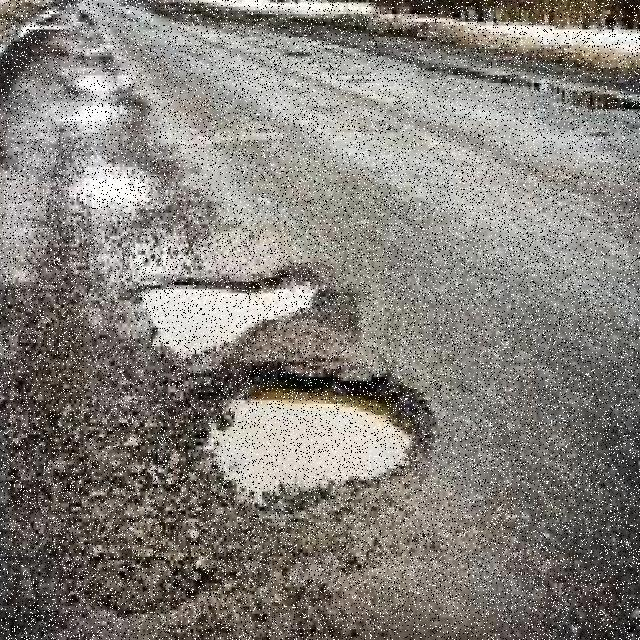pothole: (206, 392, 415, 499), (140, 285, 318, 358)
